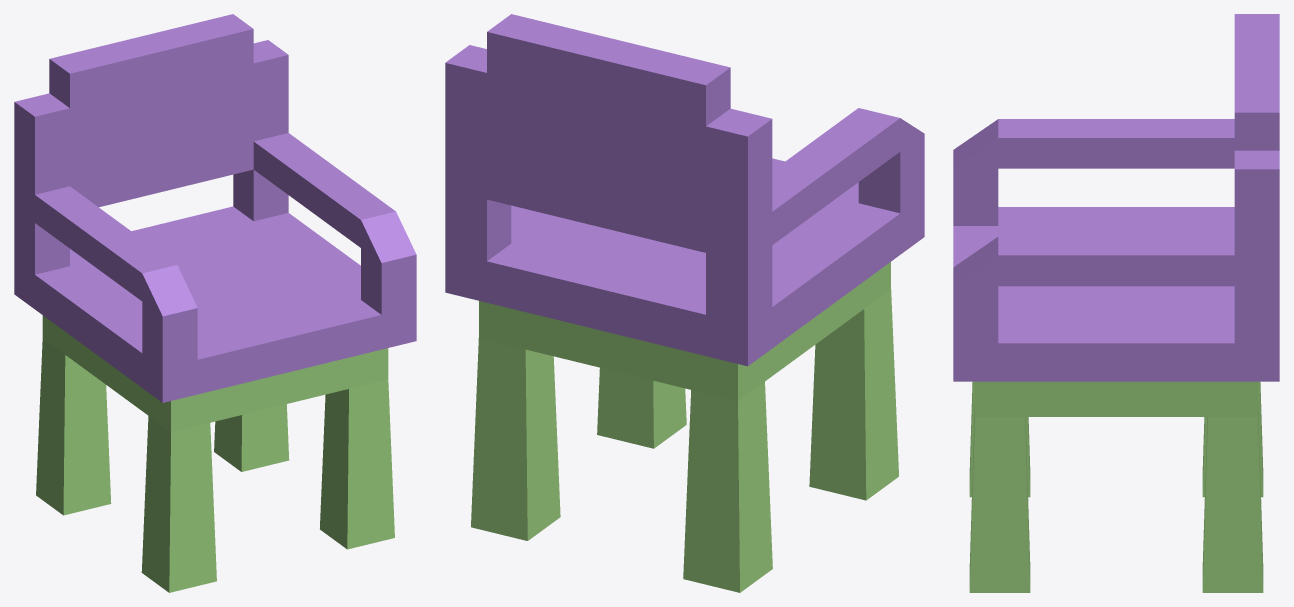
File: ChairHandle.glb
The picture shows the model from 3 angles, left to right: view 1: azimuth 30°, elevation 25°; view 2: azimuth 150°, elevation 25°; view 3: azimuth 270°, elevation 25°; orthographic projection. The views are drawn at different scales.
Visible parts, largest first — view 1: HandleChair_1, HandleChair_0; view 2: HandleChair_1, HandleChair_0; view 3: HandleChair_1, HandleChair_0.
Boxes of the visible parts, <box> form: HandleChair_1: <box>14,14,416,402</box>; HandleChair_0: <box>36,315,394,592</box>; HandleChair_1: <box>445,14,924,366</box>; HandleChair_0: <box>471,262,898,592</box>; HandleChair_1: <box>953,14,1279,381</box>; HandleChair_0: <box>969,381,1263,592</box>.
Bounding box in the file's own units: 0.4326 × 0.6939 × 0.4379.
